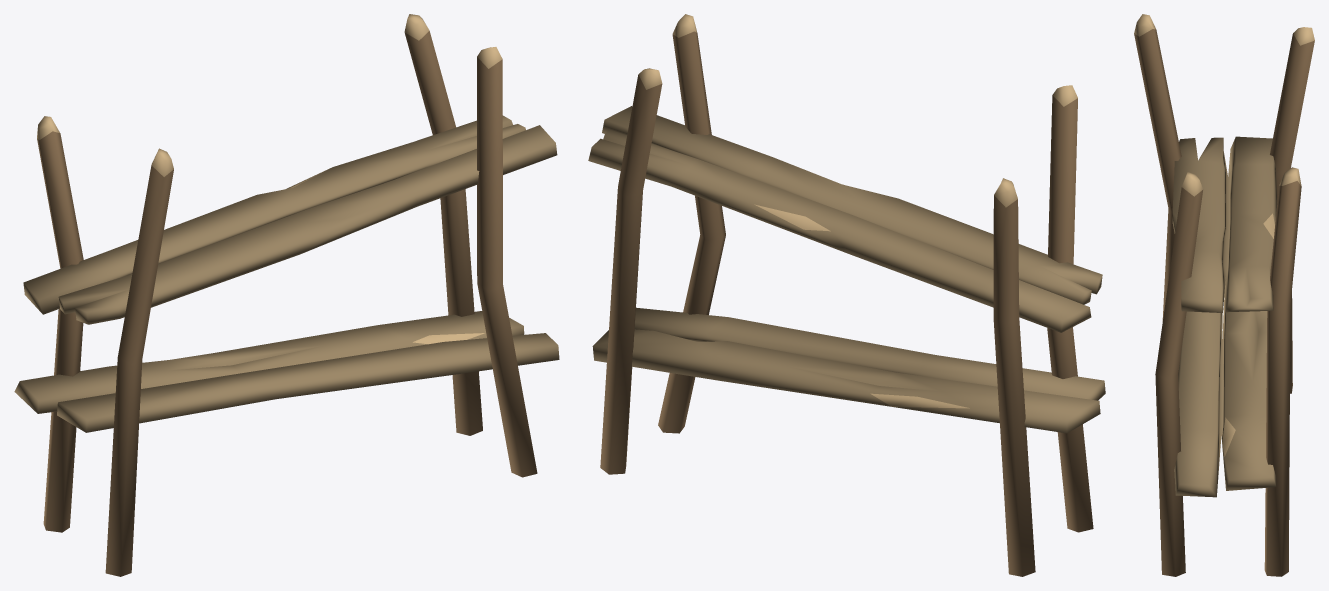
File: rpgpp_av_shelf_wood_01a.gltf
3 renders of one model, left to right at view 1: azimuth 30°, elevation 25°; view 2: azimuth 150°, elevation 25°; view 3: azimuth 270°, elevation 25°, orthographic. The views are drawn at different scales.
Visible parts, largest first — view 1: rpgpp_av_shelf_wood_01a; view 2: rpgpp_av_shelf_wood_01a; view 3: rpgpp_av_shelf_wood_01a.
Boxes of the visible parts, <box> form: rpgpp_av_shelf_wood_01a: <box>14,14,559,576</box>; rpgpp_av_shelf_wood_01a: <box>588,14,1105,576</box>; rpgpp_av_shelf_wood_01a: <box>1134,14,1314,576</box>.
Size of the model in its own units: 0.0235 by 0.0191 by 0.00804.
1 material, 1 textured.
